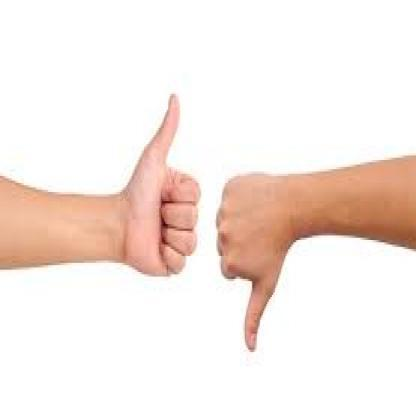thumb_down: (214, 166, 288, 354)
thumb_up: (122, 91, 200, 280)
